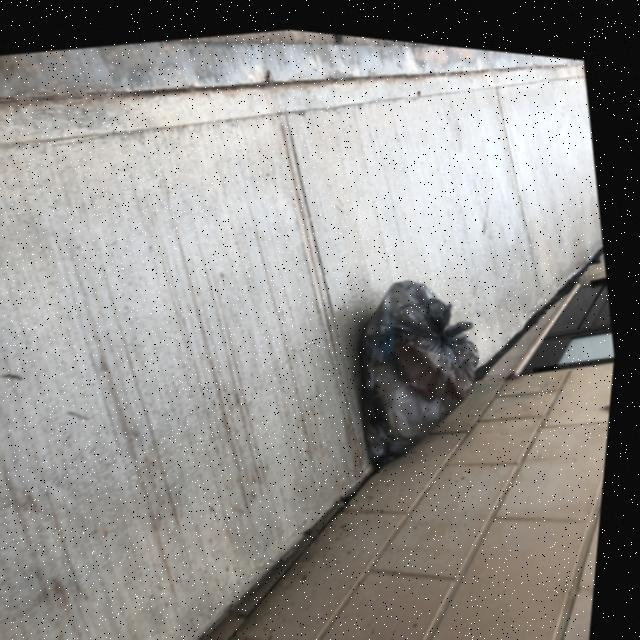Mixed Waste -Black Bag-: (343, 258, 510, 474)
